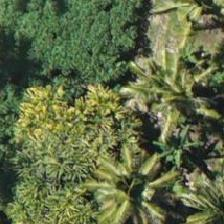coconut_tree: (87, 138, 177, 223), (171, 171, 223, 223)
